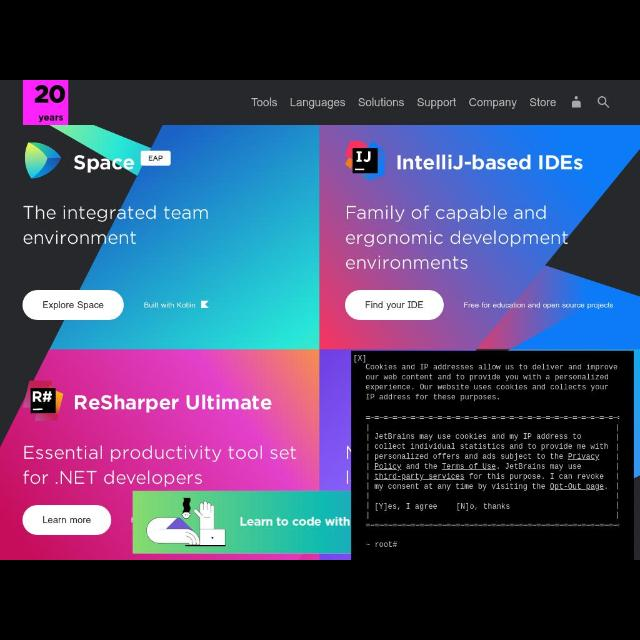icon: (598, 97, 610, 109), (354, 354, 366, 364), (573, 96, 581, 108), (201, 300, 209, 308)
image: (146, 498, 227, 548), (22, 82, 68, 125), (345, 140, 385, 180), (23, 381, 63, 421), (25, 143, 61, 179)
text: (374, 432, 608, 510), (346, 206, 568, 270), (23, 447, 297, 488), (366, 362, 620, 400), (23, 205, 209, 245), (76, 393, 272, 413), (396, 156, 584, 170), (463, 302, 613, 310), (240, 517, 350, 527), (73, 154, 134, 172), (289, 98, 345, 110), (42, 300, 104, 310), (364, 300, 424, 310), (469, 98, 517, 109), (417, 98, 458, 109), (358, 99, 406, 108), (43, 516, 91, 524), (143, 302, 195, 308), (250, 97, 278, 107), (530, 98, 556, 108), (365, 542, 399, 548), (148, 154, 164, 162)
textbutton: (22, 289, 124, 321), (345, 290, 445, 320), (22, 505, 112, 535), (140, 150, 170, 166)
toolbar: (1, 81, 640, 125)
